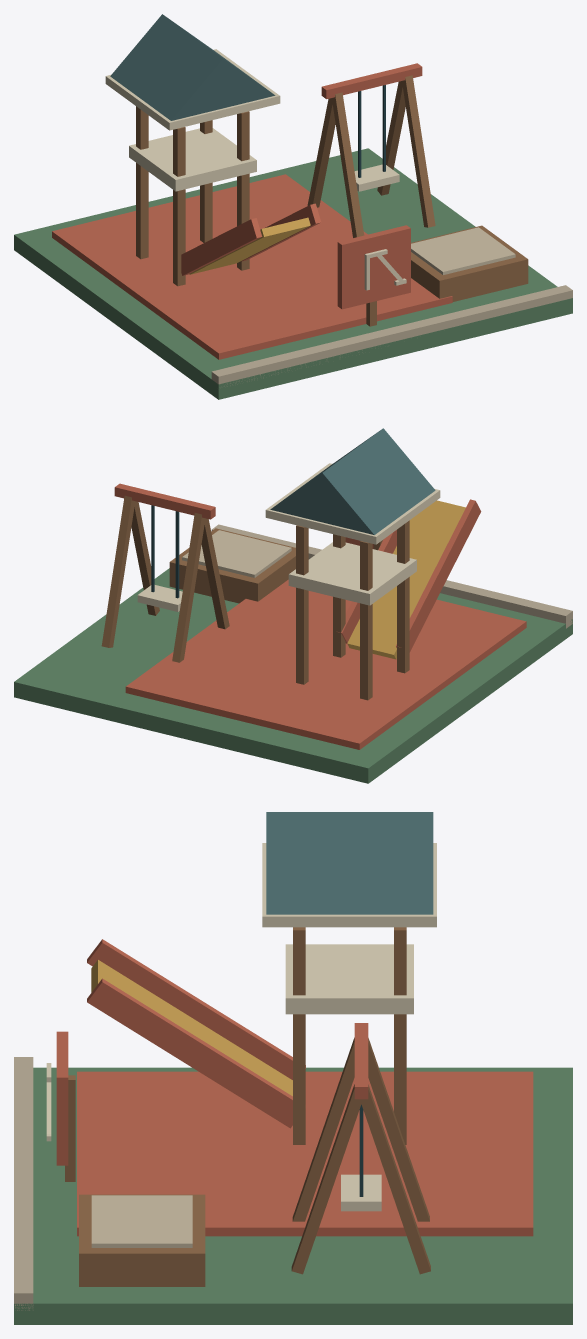
File: playground-sunrise-complete.glb
3 views of the same model, one above another, from view 1: azimuth 30°, elevation 25°; view 2: azimuth 150°, elevation 25°; view 3: azimuth 270°, elevation 25° (orthographic). The views are drawn at different scales.
Parts seen in each view (by area): view 1: playground; view 2: playground; view 3: playground.
Part boxes in pixels (x1,y1,x2,y2): playground: (14,14,572,399); playground: (14,428,572,783); playground: (14,812,572,1324).
Bounding box in the file's own units: 2.88 × 1.94 × 2.88.
